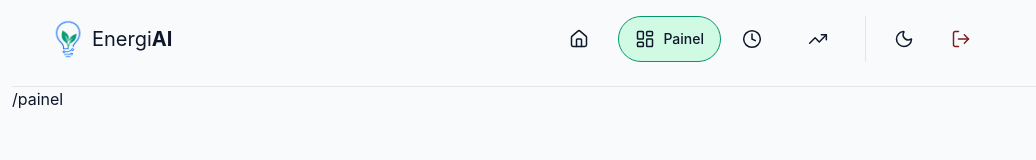
Header › encerra a sessão e redireciona para o login
Click the button named "Encerrar sessão" at (965, 39), box 934,16 -> 996,62
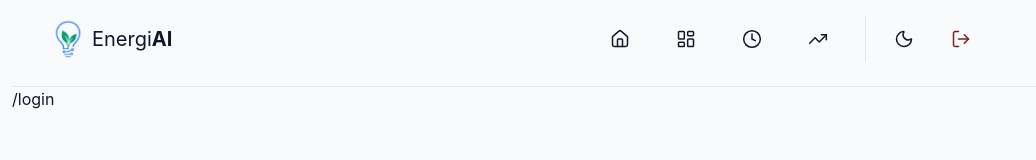
Result: the text "/login" is shown at 12,89 -> 54,109
